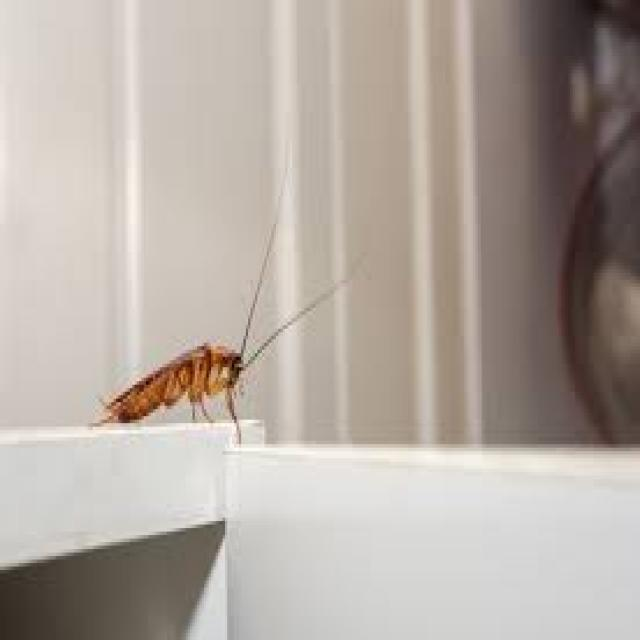Cockroach: (95, 294, 269, 451)
